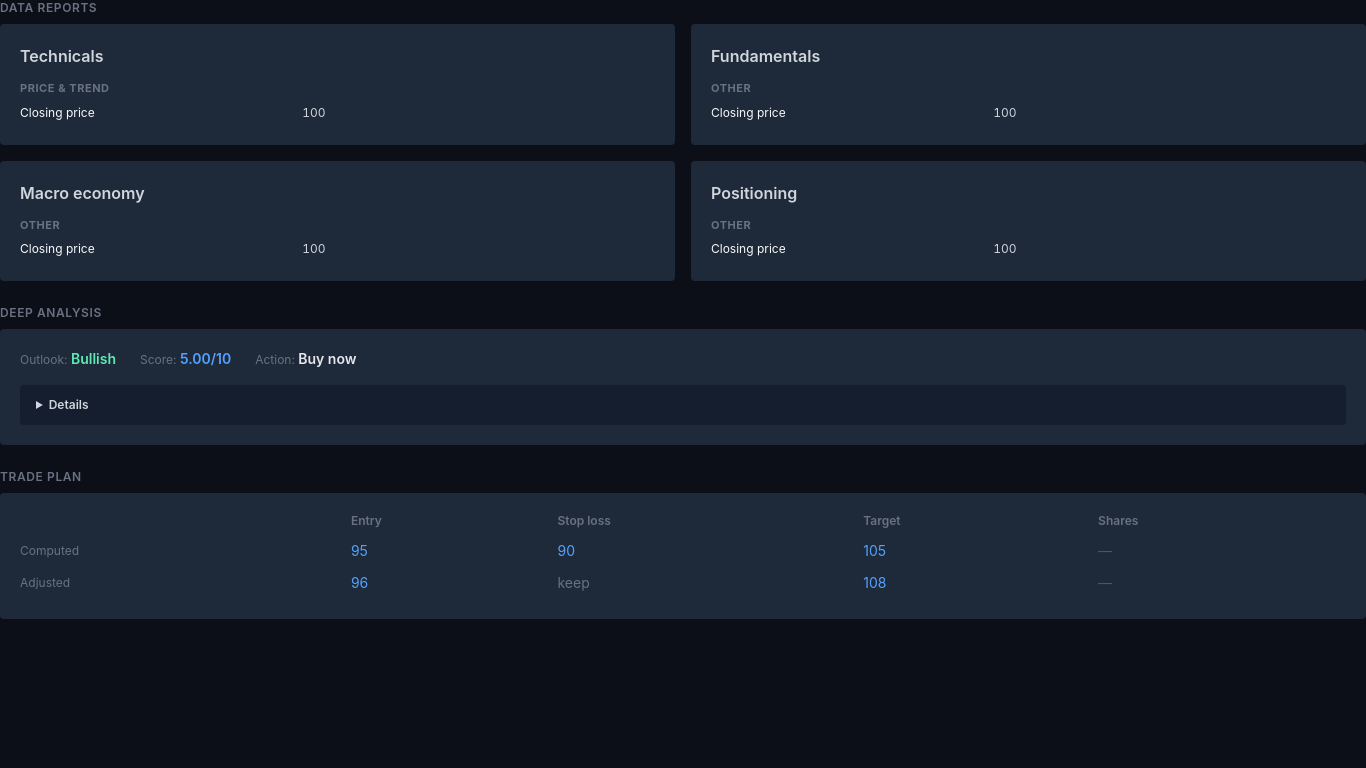
Test: AltResult › clicking an adjusted level opens the AI reason with its references, nothing else
Click the button with test id "alt-level-adjusted-entry" at (360, 583), box [351,573,368,593]
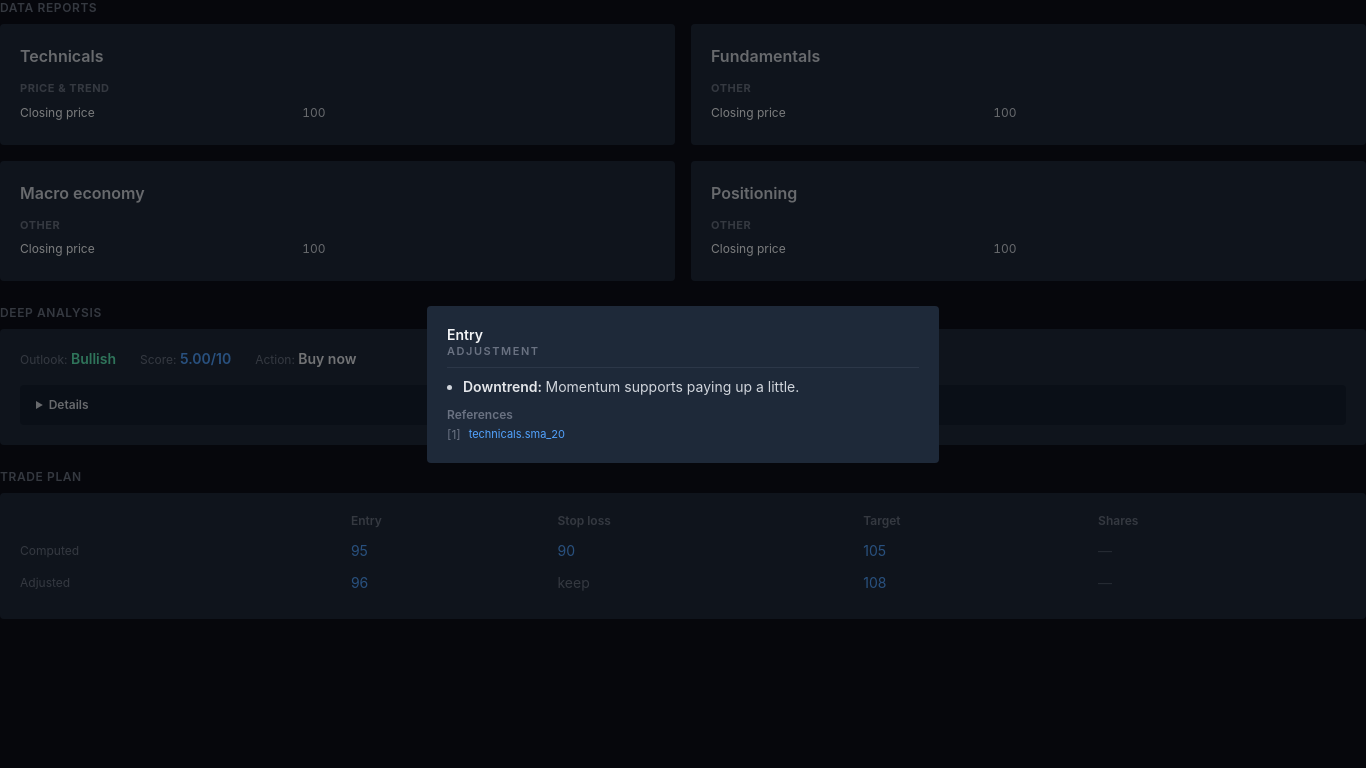
Expected: the text "Momentum supports paying up a little." is shown, [546,378,799,395]
Expected: the button "technicals.sma_20" is shown, [469,426,565,442]
